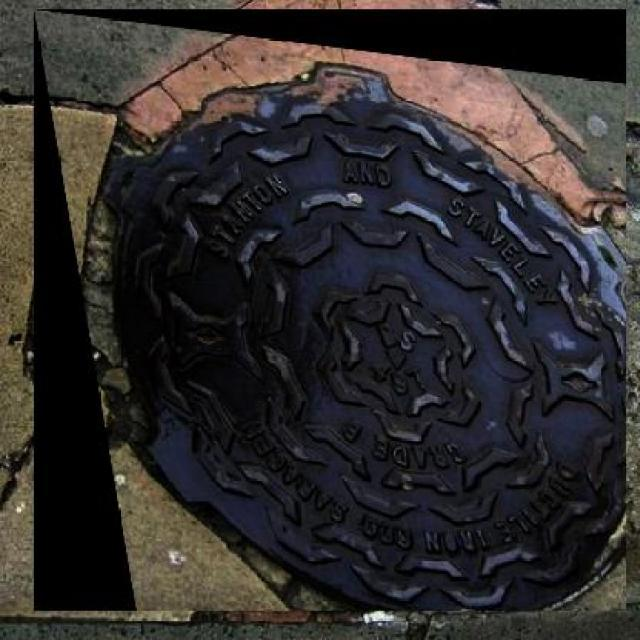Manhole: (34, 9, 626, 611)
